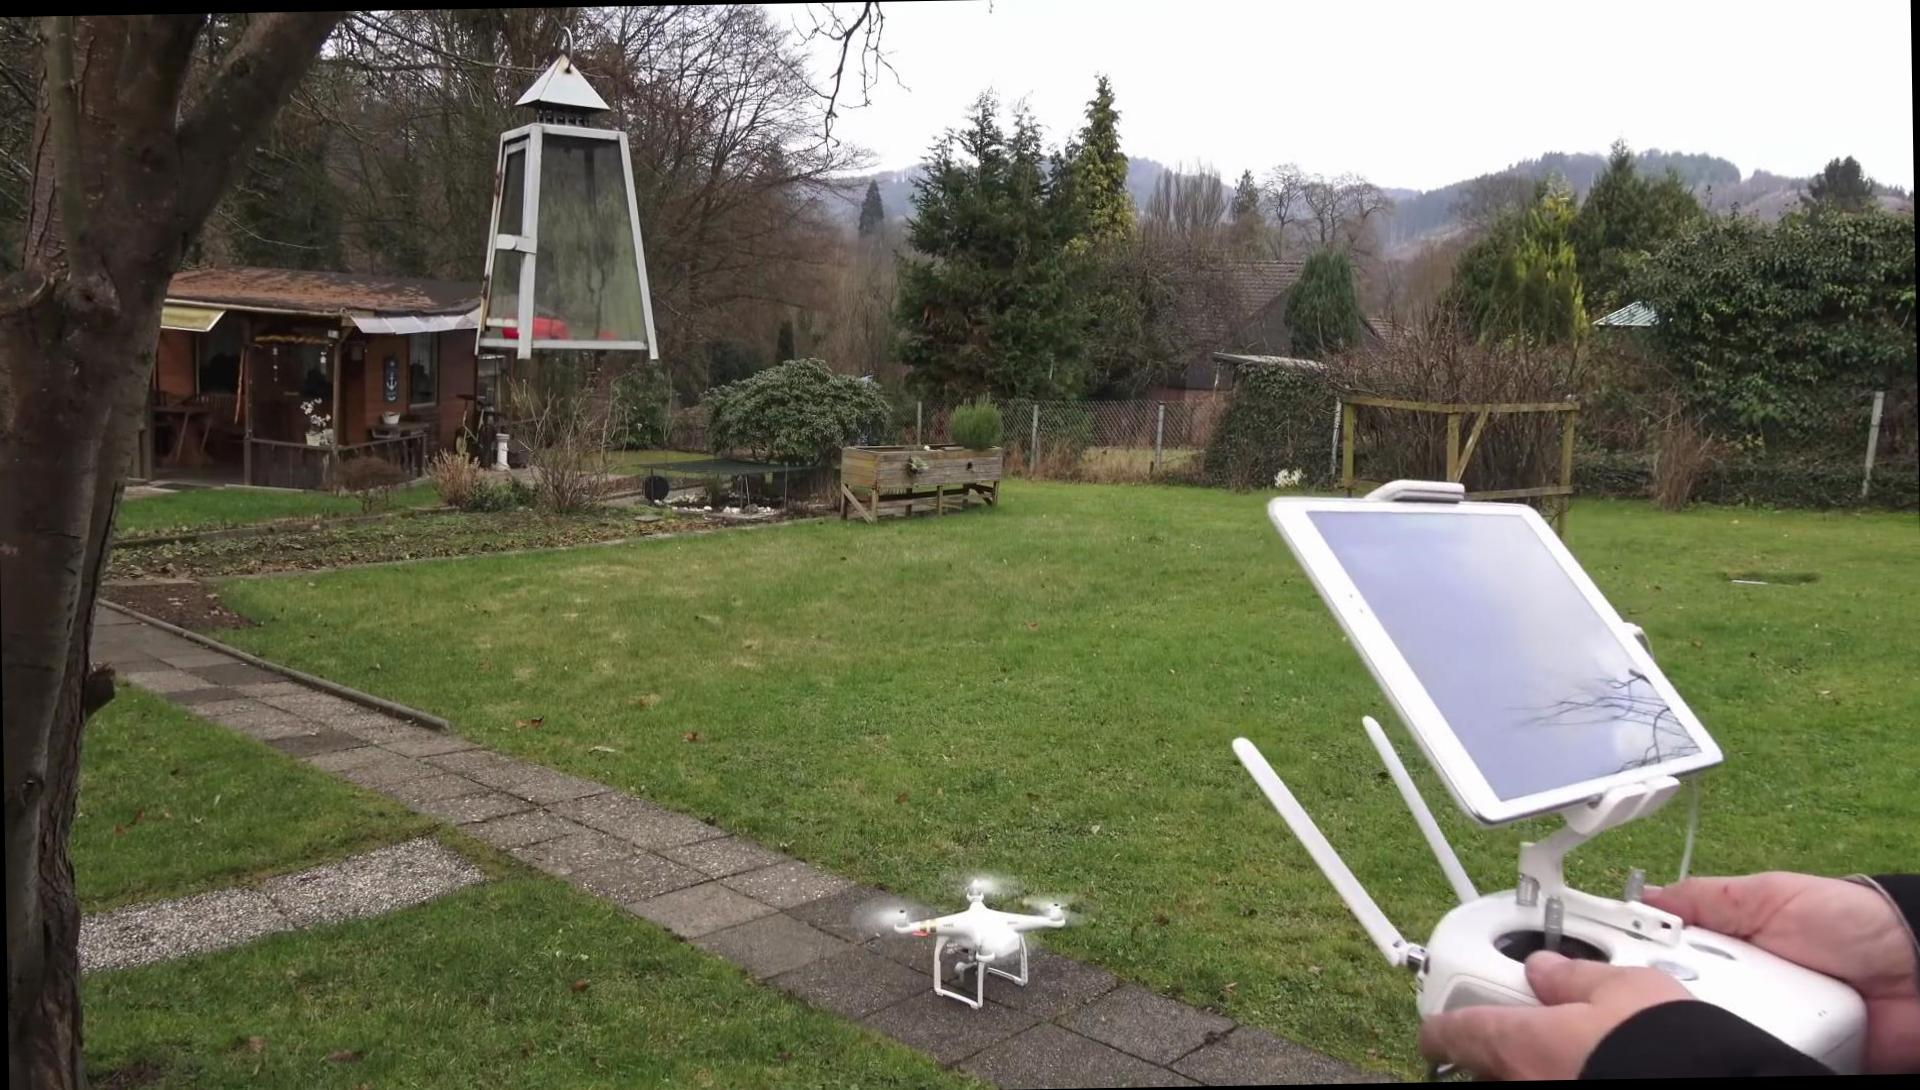drone: (858, 865, 1085, 1010)
